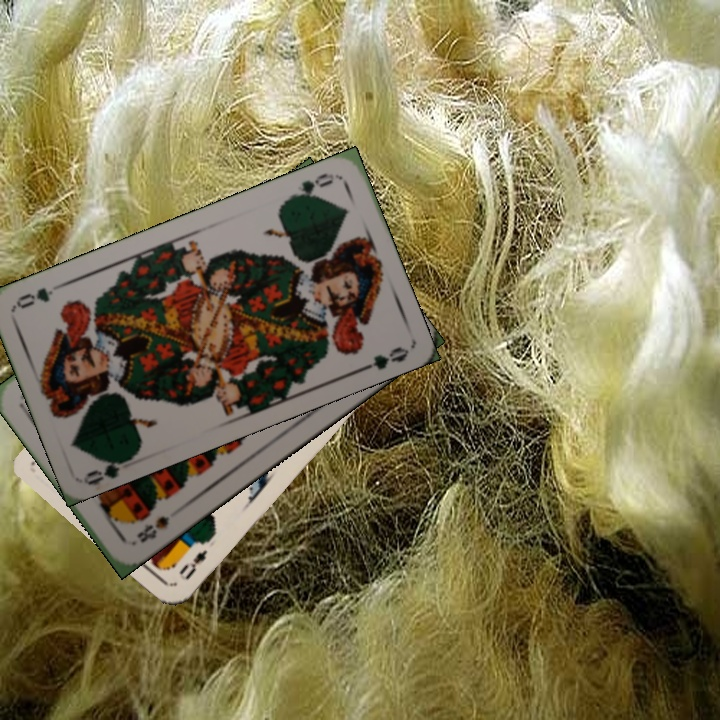EO: (174, 536, 212, 583)
GO: (82, 451, 138, 487), (285, 169, 340, 203)
S8: (132, 511, 172, 546)
